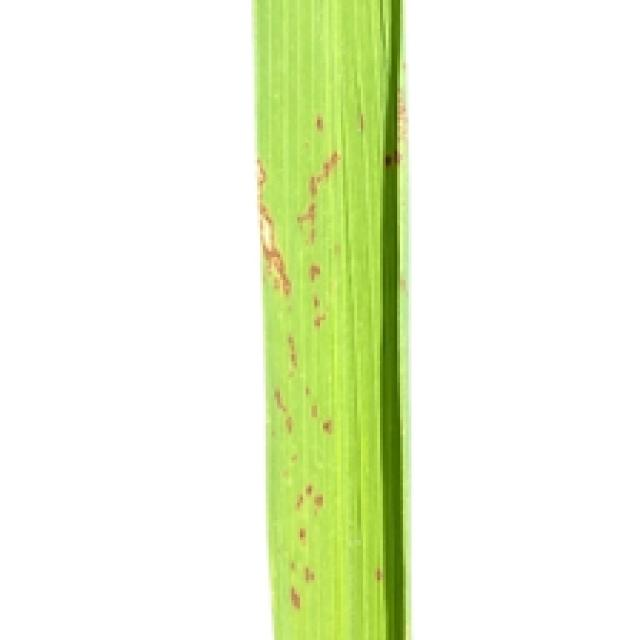Rice___Brown_Spot: (253, 0, 412, 637)
